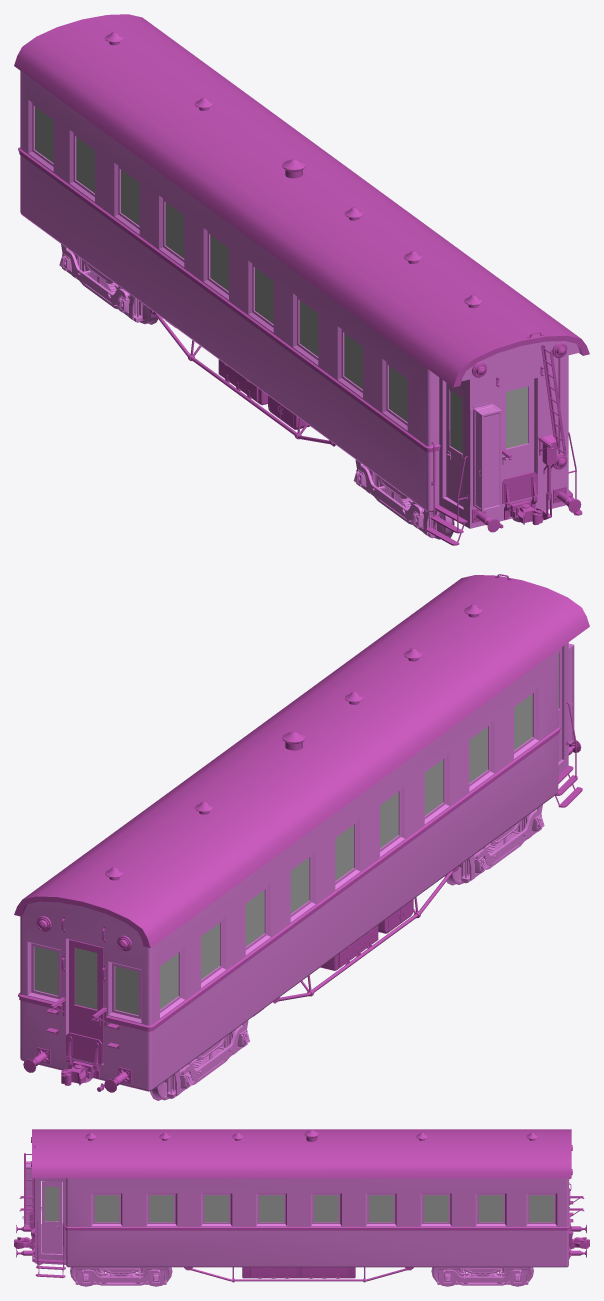
Rendered from CoachVagonSt.FBX.
3 views of the same model, one above another, from view 1: azimuth 30°, elevation 25°; view 2: azimuth 150°, elevation 25°; view 3: azimuth 270°, elevation 25° (orthographic). The views are drawn at different scales.
Visible parts, largest first — view 1: CoachVagon; view 2: CoachVagon; view 3: CoachVagon.
Boxes of the visible parts, x1,y1,x2,y2 form: CoachVagon: [14, 14, 589, 545]; CoachVagon: [14, 574, 589, 1100]; CoachVagon: [14, 1129, 589, 1286].
Bounding box in the file's own units: 132 × 213 × 768.
